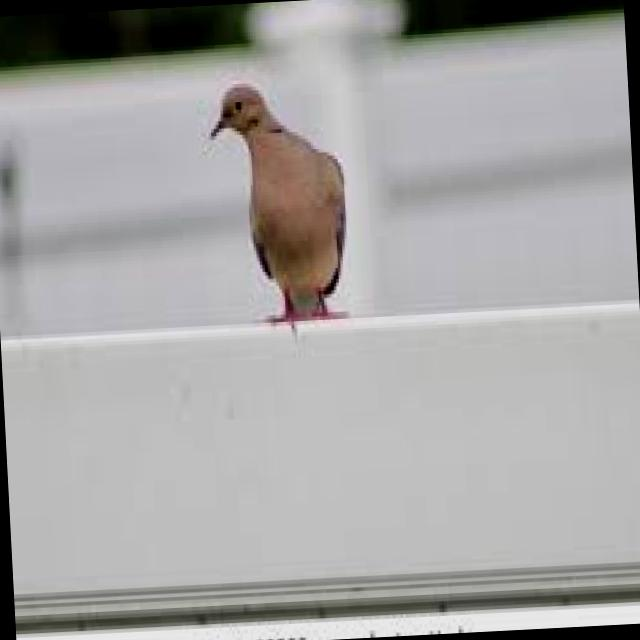bird: (202, 69, 356, 334)
